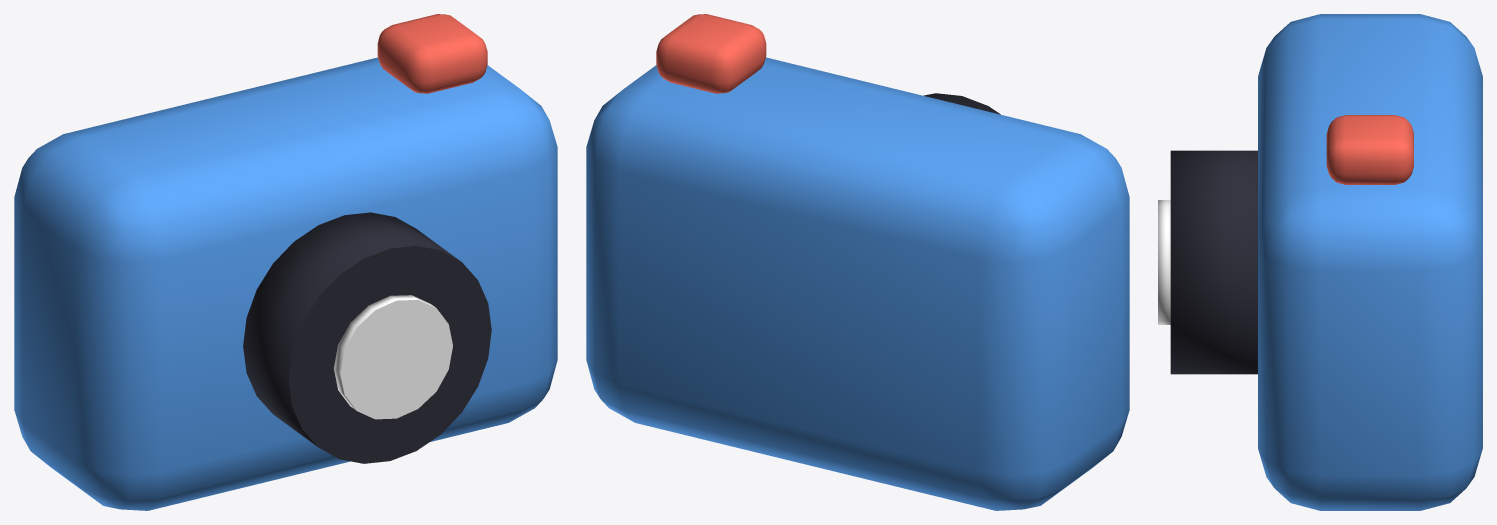
Rendered from icon_photo.glb.
3 renders of one model, left to right at view 1: azimuth 30°, elevation 25°; view 2: azimuth 150°, elevation 25°; view 3: azimuth 270°, elevation 25°, orthographic. The views are drawn at different scales.
Visible parts, largest first — view 1: icon_photo; view 2: icon_photo; view 3: icon_photo.
Part boxes in pixels (bbox=[...]): icon_photo: bbox=[14, 14, 557, 510]; icon_photo: bbox=[586, 14, 1129, 510]; icon_photo: bbox=[1158, 14, 1482, 510].
Size of the model in its own units: 0.42 by 0.32 by 0.26.
